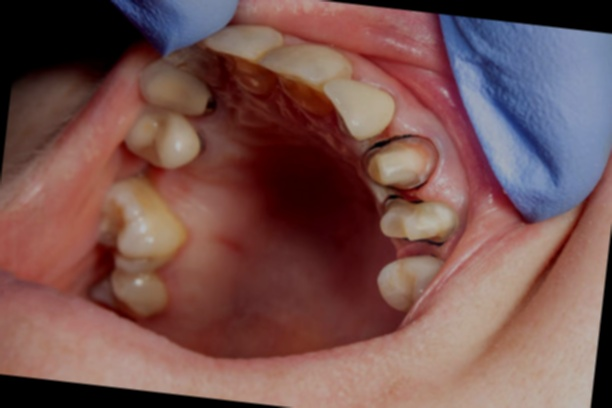Caries: (371, 187, 477, 261), (351, 130, 453, 202), (204, 87, 226, 116)
